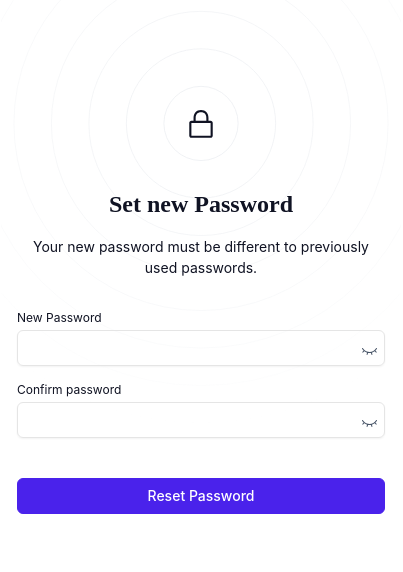
New password page › should show required error when new password is left blank
Type "myPassword" into the password field named "confirmPassword" below "Confirm password" at [201, 420], box [17,402,385,438]
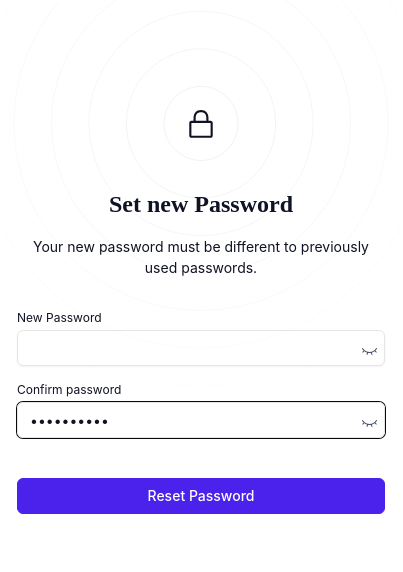
Click the button with test id "reset-btn" at [201, 496], box [17,478,385,514]
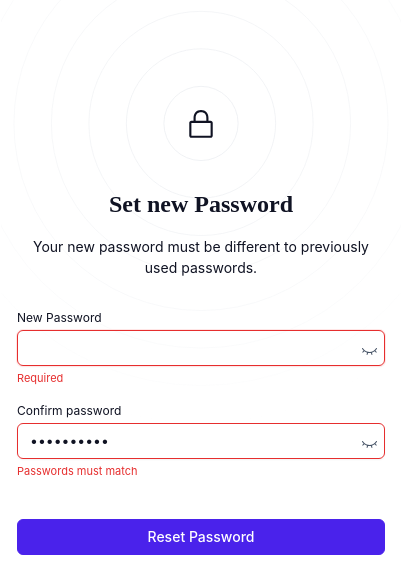
Expected: the text "Required" is shown, [17,371,63,385]
